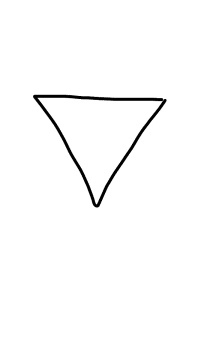Triangle: (31, 90, 168, 209)
